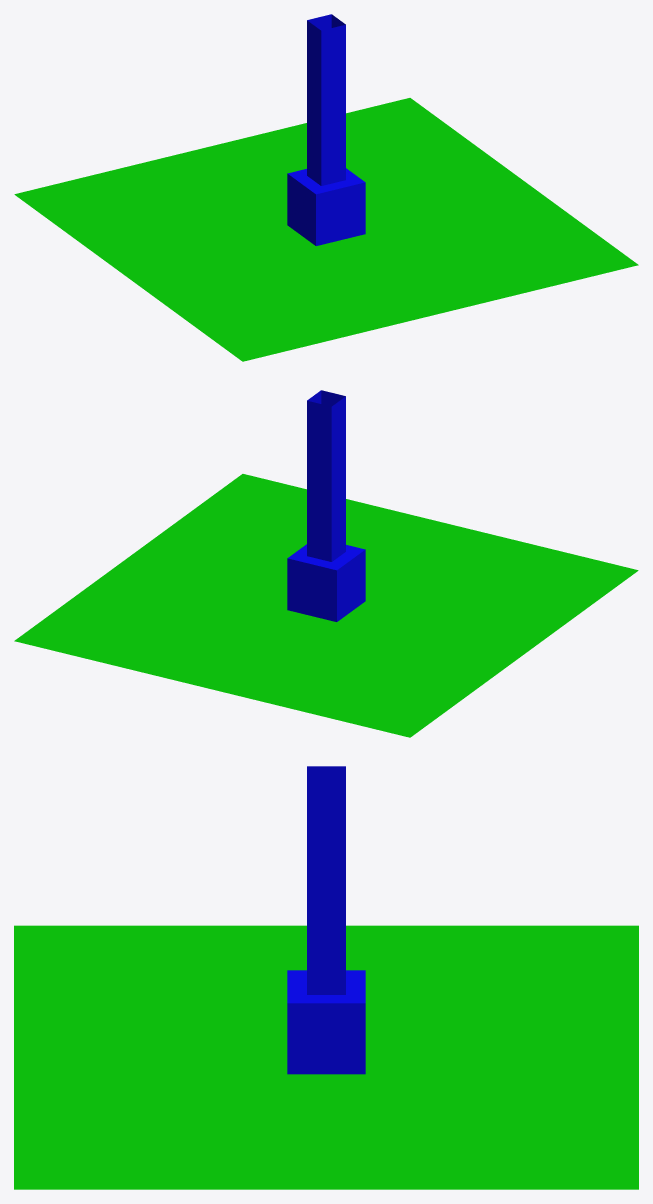
Rendered from None_W_W_E_E_W_W_E_E_BigStrut.fbx.
3 renders of one model, top to bottom at view 1: azimuth 30°, elevation 25°; view 2: azimuth 150°, elevation 25°; view 3: azimuth 270°, elevation 25°, orthographic. The views are drawn at different scales.
Visible parts, largest first — view 1: None_W_W_E_E_W_W_E_E_BigStrut; view 2: None_W_W_E_E_W_W_E_E_BigStrut; view 3: None_W_W_E_E_W_W_E_E_BigStrut.
Boxes of the visible parts, x1,y1,x2,y2 form: None_W_W_E_E_W_W_E_E_BigStrut: (14, 14, 638, 361); None_W_W_E_E_W_W_E_E_BigStrut: (14, 390, 638, 737); None_W_W_E_E_W_W_E_E_BigStrut: (14, 766, 638, 1189).
Size of the model in its own units: 100 by 50 by 100.
